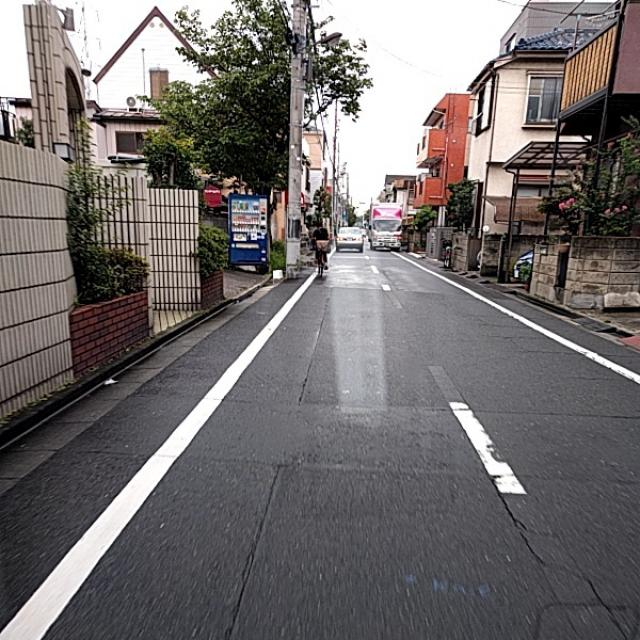pothole: (441, 450, 594, 605)
